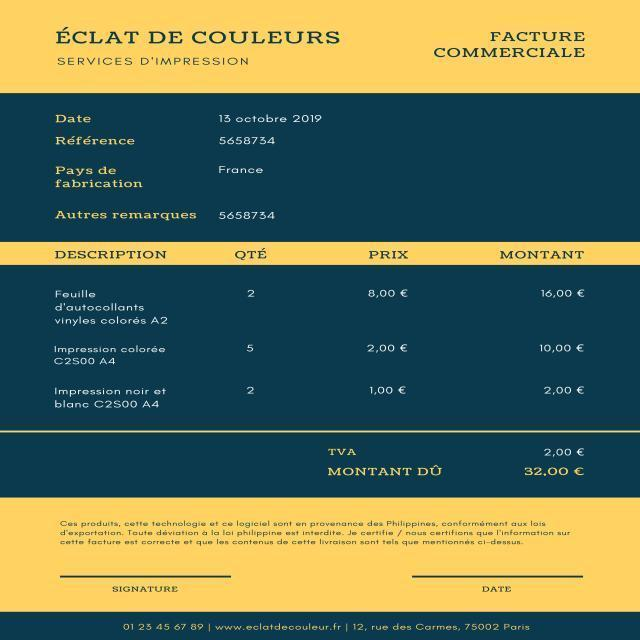ROI: (46, 242, 594, 420), (48, 103, 331, 226), (54, 514, 576, 551), (49, 22, 346, 75), (319, 439, 592, 485), (115, 615, 535, 638), (428, 25, 593, 64), (107, 580, 183, 598), (476, 581, 518, 596)
